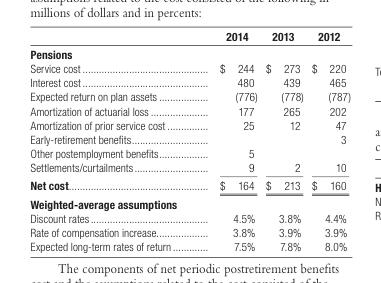table: (29, 29, 350, 252)
table column: (29, 29, 194, 252), (194, 29, 260, 252), (260, 29, 306, 252), (306, 29, 350, 252)
table column header: (29, 29, 350, 45)
table projected row header: (29, 193, 350, 210), (29, 45, 350, 61)
table row: (29, 175, 350, 193), (29, 193, 350, 210), (29, 29, 350, 45), (29, 45, 350, 61), (29, 159, 350, 175), (29, 61, 350, 75), (29, 75, 350, 89), (29, 89, 350, 103), (29, 103, 350, 117), (29, 117, 350, 131), (29, 131, 350, 145), (29, 145, 350, 159), (29, 210, 350, 224), (29, 224, 350, 238), (29, 238, 350, 252)
